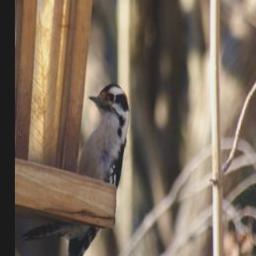Woodpecker: (22, 82, 130, 256)
